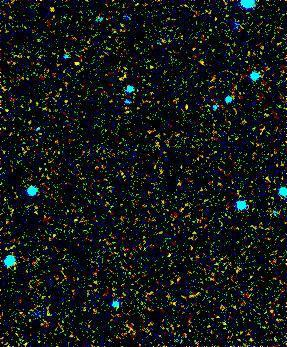star: (59, 48, 89, 78)
